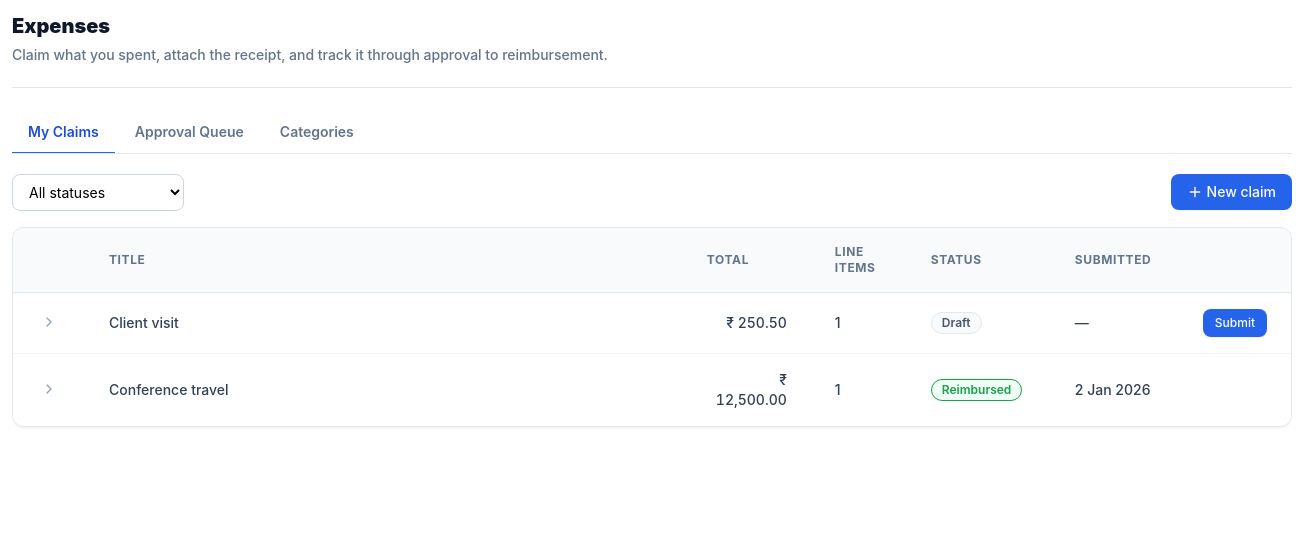
Test case: my claims › expands a claim to show its line items
expect the text "Client visit" is shown: met, box [85, 292, 683, 353]
Click the button named "Show line items for Client visit": [49, 322] box [37, 310, 61, 334]
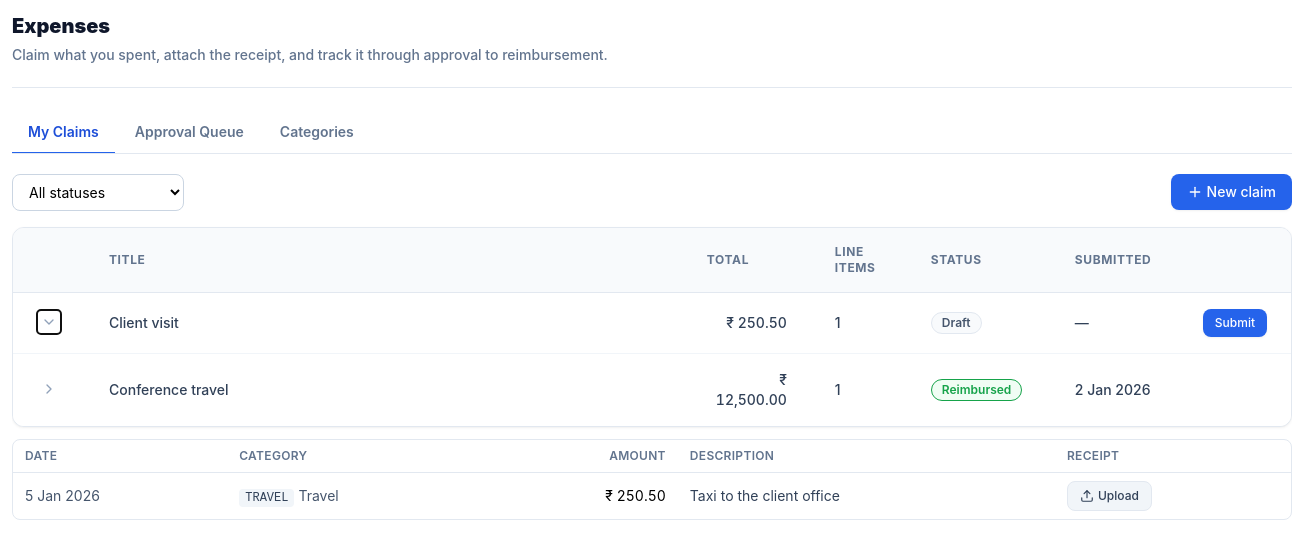
expect the text "Taxi to the client office" is shown: met, box [678, 472, 1055, 519]
expect the text "5 Jan 2026" is shown: met, box [13, 472, 227, 519]
